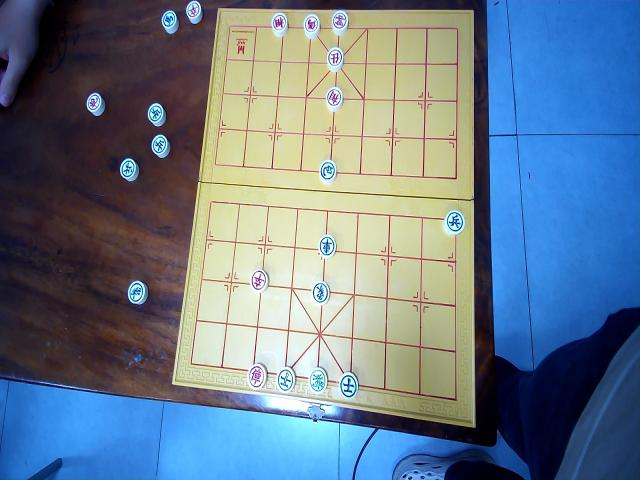piece: (443, 209, 465, 236), (338, 372, 358, 400), (247, 362, 267, 390), (308, 366, 328, 394), (150, 133, 170, 159), (127, 281, 147, 306), (331, 9, 349, 36), (318, 234, 337, 259), (270, 12, 288, 38), (303, 12, 321, 38), (319, 158, 337, 184), (277, 367, 295, 393), (86, 91, 104, 116), (326, 46, 344, 71), (325, 86, 343, 111), (147, 101, 165, 126), (311, 280, 329, 305), (160, 9, 178, 34), (185, 0, 203, 25), (250, 269, 268, 293), (120, 158, 138, 181)
